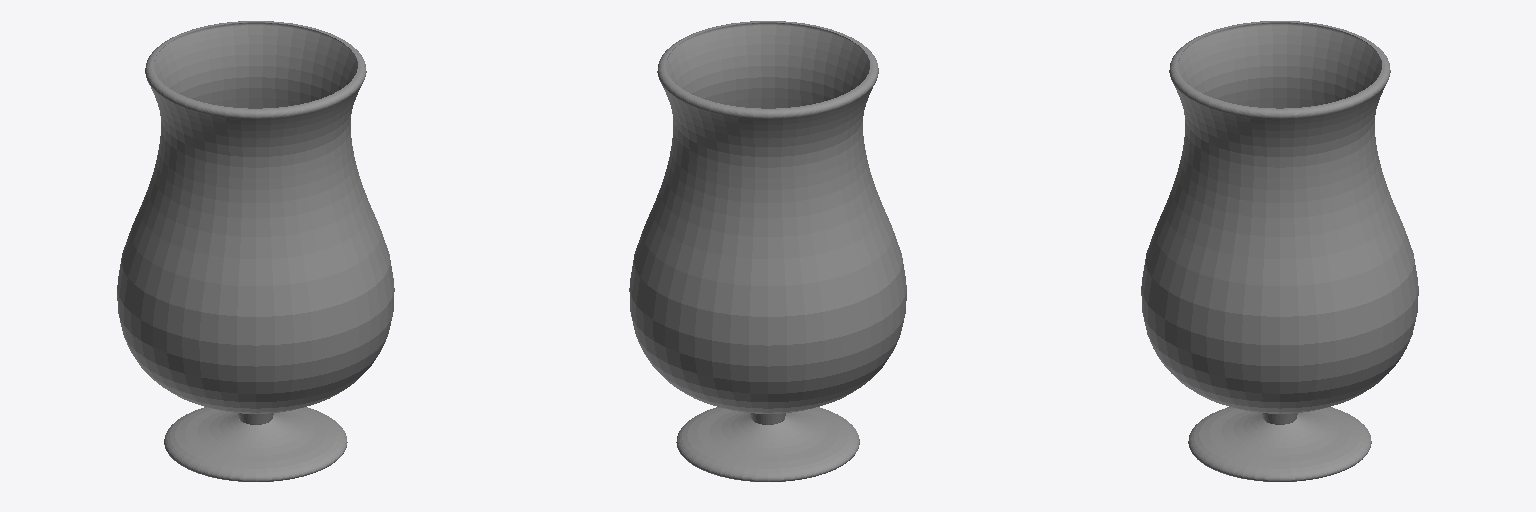
The model's file is cocktail glass.obj.
3 renders of one model, left to right at view 1: azimuth 30°, elevation 25°; view 2: azimuth 150°, elevation 25°; view 3: azimuth 270°, elevation 25°, orthographic.
Visible parts, largest first — view 1: Vase; view 2: Vase; view 3: Vase.
Boxes of the visible parts, x1,y1,x2,y2 form: Vase: [117, 21, 394, 481]; Vase: [629, 21, 906, 481]; Vase: [1141, 21, 1418, 481].
Bounding box in the file's own units: 5.13 × 7.78 × 5.13.